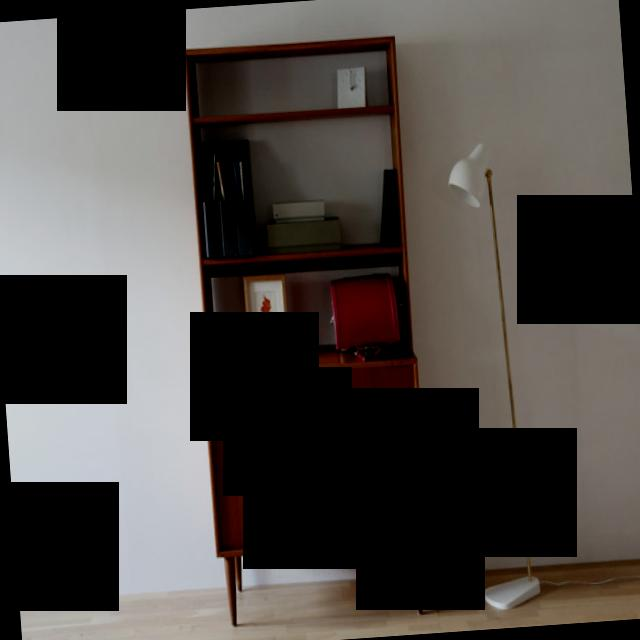vintage shelf: (170, 23, 442, 637)
